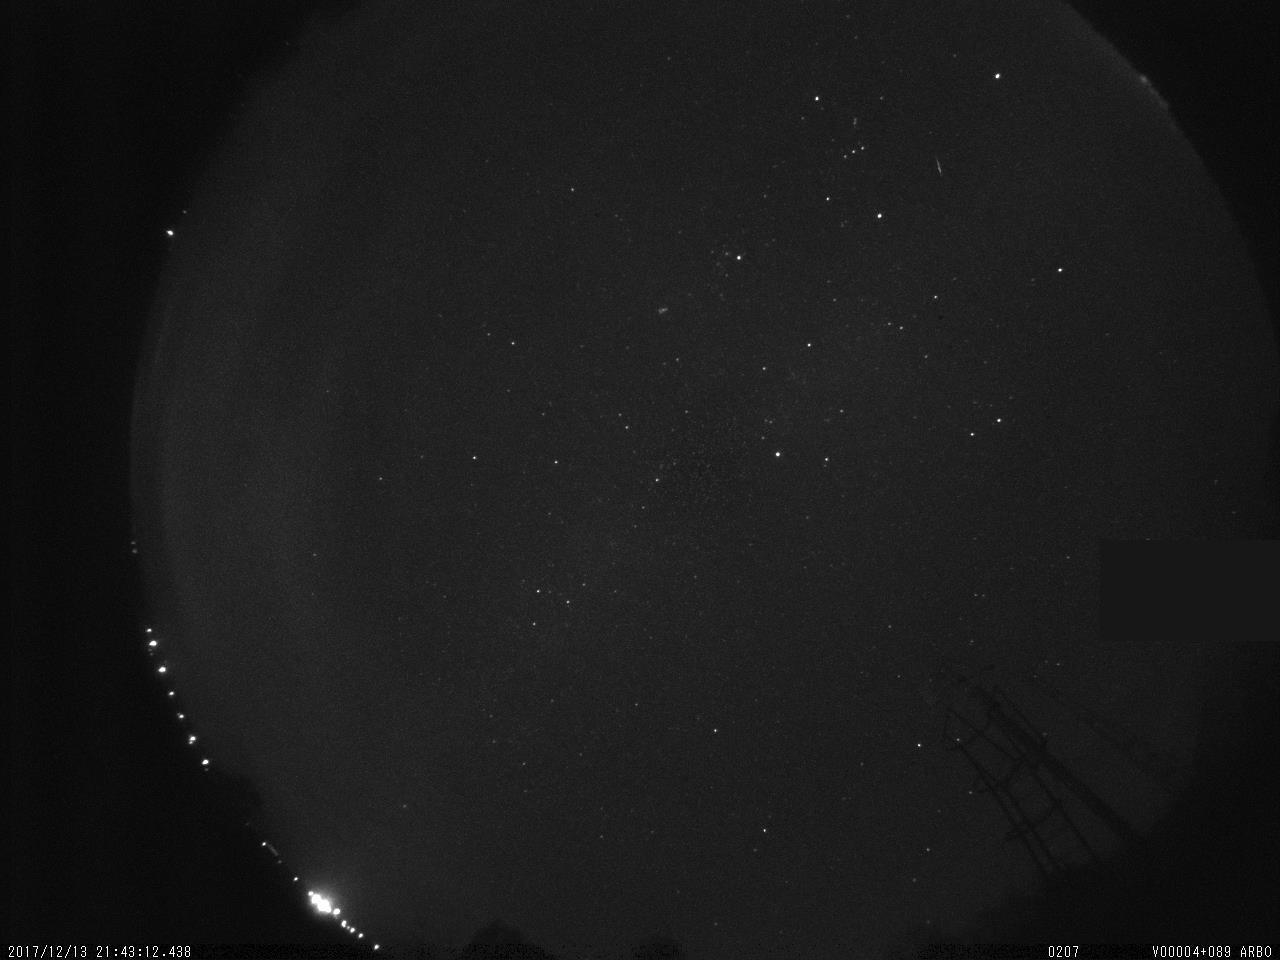meteor: (925, 150, 952, 187)
